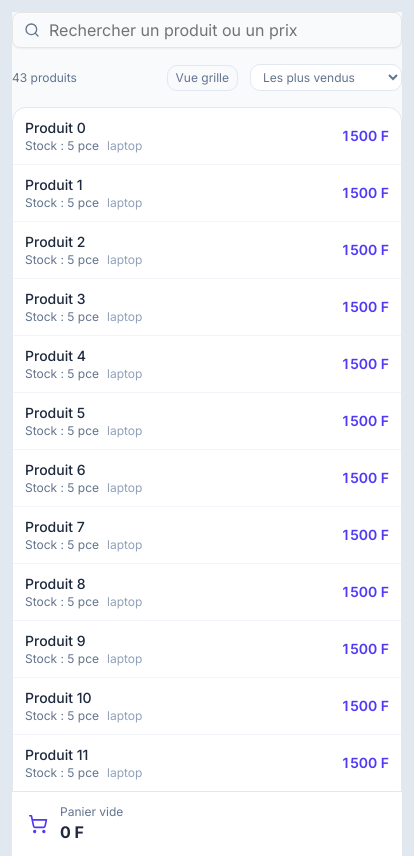
POS — la caisse est atteignable sans défiler le catalogue › la barre annonce le total à jour dès qu'un produit est ajouté
expect the button "Panier vide 0 F" is shown: met, box top-left (12, 791), bottom-right (402, 855)
Click the text "Produit 0". click: click(55, 128)
box: top-left (25, 119), bottom-right (86, 136)
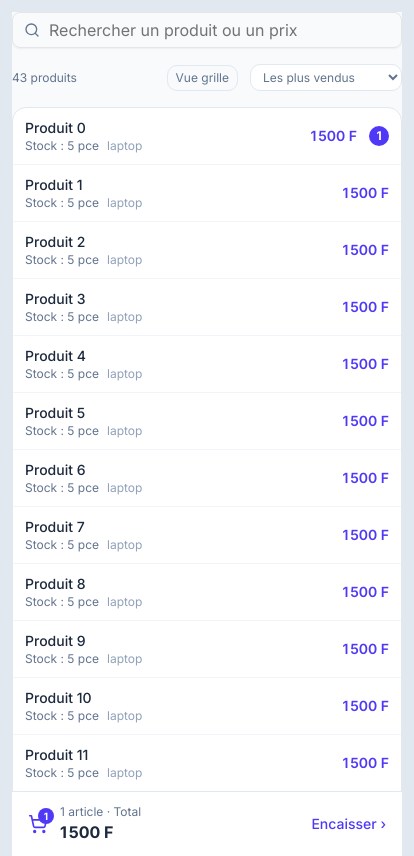
expect the button with aria-label "1 article, total" is shown: met, box top-left (12, 791), bottom-right (402, 855)
